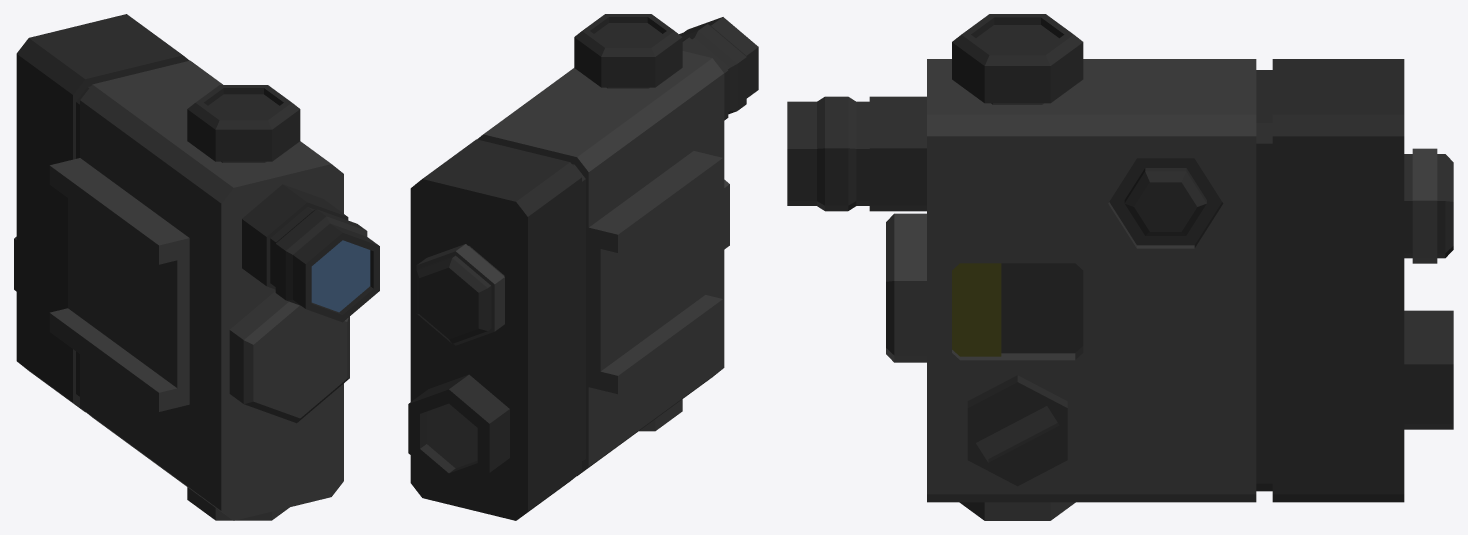
File: Laser_C_Left.fbx
3 views of the same model, side by side, from view 1: azimuth 30°, elevation 25°; view 2: azimuth 150°, elevation 25°; view 3: azimuth 270°, elevation 25° (orthographic). The views are drawn at different scales.
Parts seen in each view (by area): view 1: Laser_C_Left; view 2: Laser_C_Left; view 3: Laser_C_Left.
Boxes of the visible parts, x1,y1,x2,y2 form: Laser_C_Left: (14, 14, 379, 520); Laser_C_Left: (408, 14, 758, 520); Laser_C_Left: (787, 14, 1453, 520).
Size of the model in its own units: 0.0338 by 0.0775 by 0.1013.
